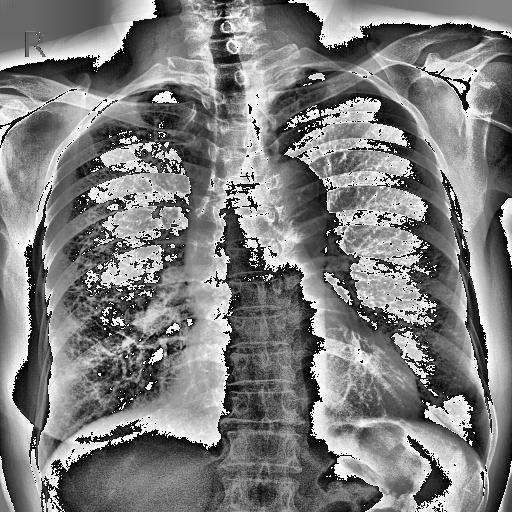0- Aortic enlargement: (236, 154, 330, 234)
11- Pleural thickening: (150, 80, 194, 86)
13- Pulmonary fibrosis: (55, 206, 156, 400)
3- Cardiomegaly: (188, 338, 420, 420)
5- ILD: (50, 202, 182, 420), (55, 206, 156, 400), (54, 214, 136, 415)
